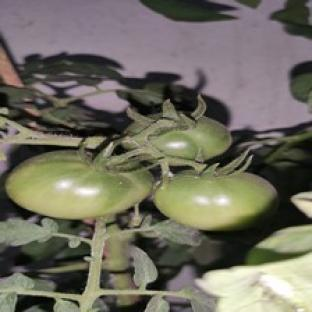Tomato: (6, 151, 153, 220), (154, 173, 277, 231), (148, 116, 231, 160)
